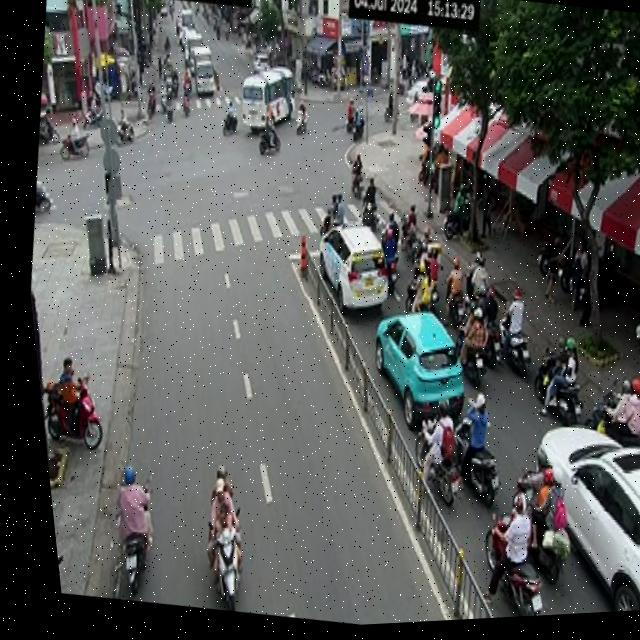Green: (421, 78, 447, 138)
